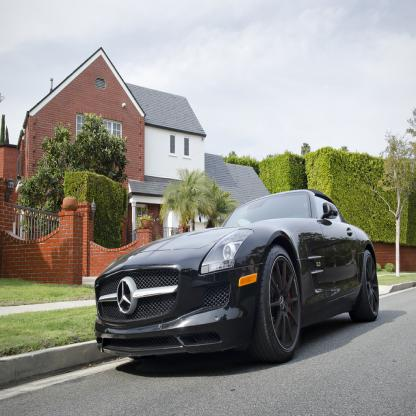Car: (93, 185, 379, 362)
